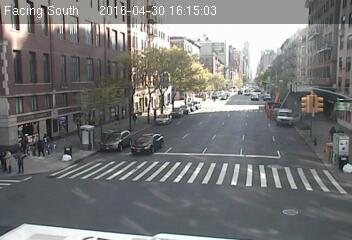neg: (269, 101, 285, 122), (16, 182, 31, 203), (165, 132, 180, 152), (102, 136, 117, 155), (70, 167, 83, 184), (75, 119, 87, 135), (211, 129, 223, 144), (309, 135, 320, 151), (184, 94, 195, 109), (59, 143, 70, 157), (39, 171, 49, 183), (240, 115, 249, 128), (341, 161, 350, 173), (248, 90, 256, 100)
pos: (10, 149, 29, 174), (13, 130, 31, 154), (1, 148, 17, 169), (38, 132, 54, 153), (326, 124, 340, 142), (130, 112, 141, 126), (336, 125, 346, 139)
